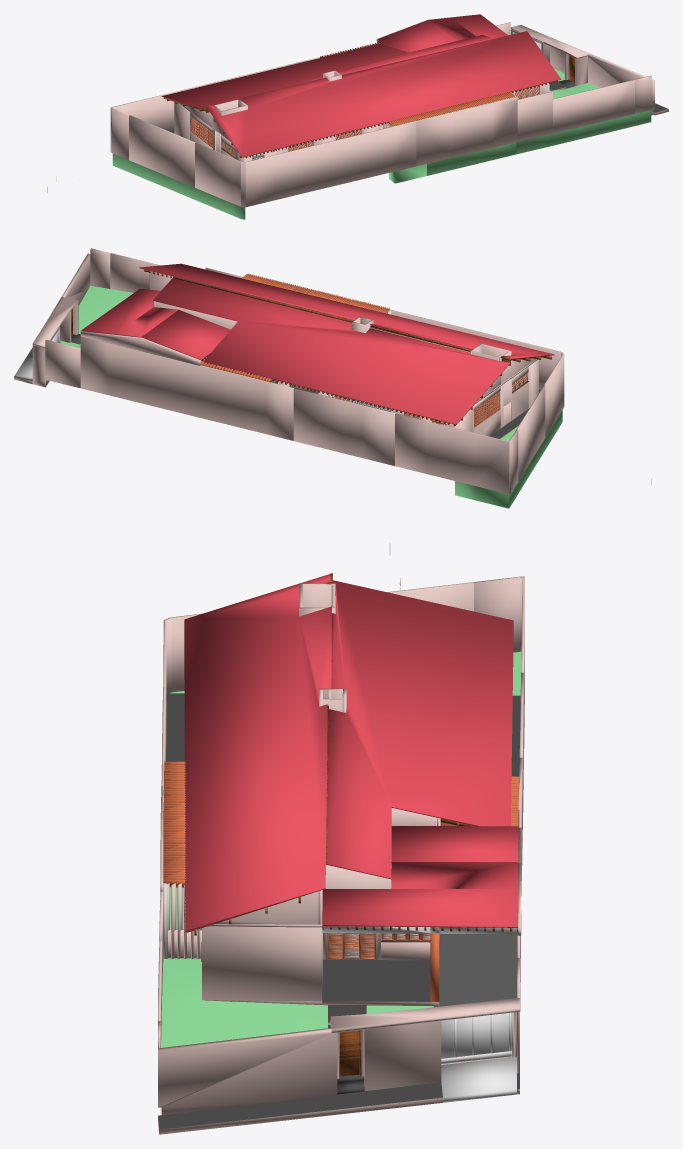
The model's file is casa maria.glb.
The picture shows the model from 3 angles, top to bottom: view 1: azimuth 30°, elevation 25°; view 2: azimuth 150°, elevation 25°; view 3: azimuth 270°, elevation 25°; orthographic projection. The views are drawn at different scales.
Parts seen in each view (by area): view 1: WALL Térreo Pintura_-_Branco_Titânio.307; view 2: WALL Térreo Pintura_-_Branco_Titânio.307; view 3: WALL Térreo Pintura_-_Branco_Titânio.307.
Boxes of the visible parts, x1,y1,x2,y2 form: WALL Térreo Pintura_-_Branco_Titânio.307: [47, 14, 668, 219]; WALL Térreo Pintura_-_Branco_Titânio.307: [14, 248, 651, 508]; WALL Térreo Pintura_-_Branco_Titânio.307: [158, 543, 524, 1134].
Size of the model in its own units: 369 by 51.97 by 102.
Materials: 25 (1 with a texture image).
